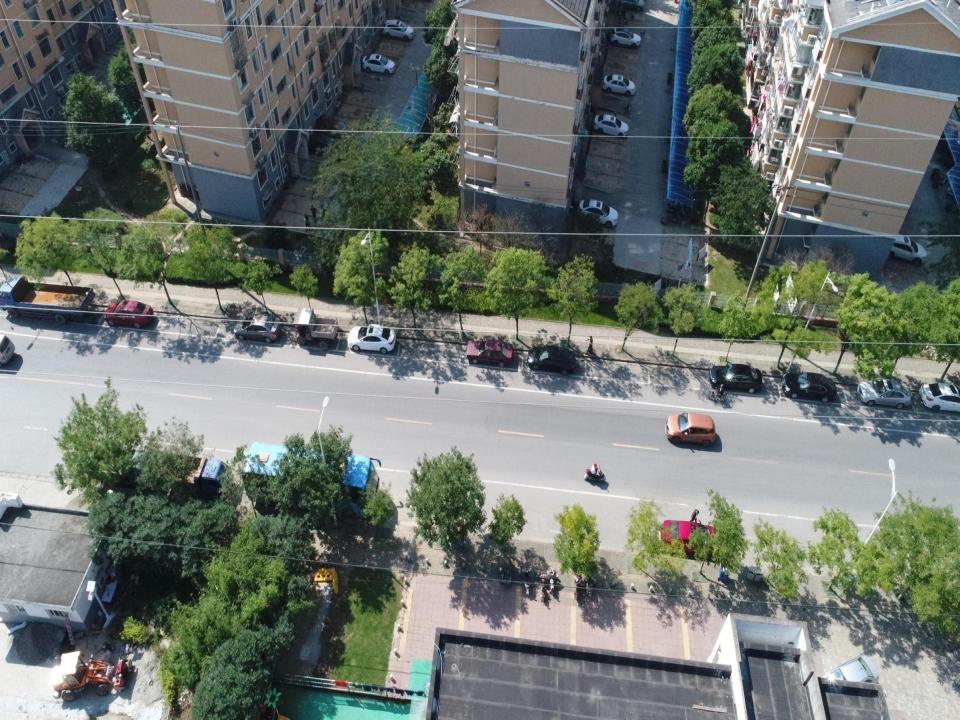car: (659, 520, 719, 561), (822, 654, 880, 690), (782, 370, 838, 405), (665, 412, 716, 448), (232, 311, 284, 345), (106, 296, 154, 332), (526, 343, 576, 377), (709, 364, 763, 395), (858, 378, 912, 409), (466, 335, 513, 369), (348, 324, 396, 355), (578, 197, 619, 228), (920, 379, 960, 410), (892, 233, 928, 264), (594, 111, 630, 139), (384, 17, 418, 42), (604, 71, 636, 97), (361, 52, 394, 76), (607, 25, 641, 48), (329, 118, 358, 143), (314, 133, 338, 155)
truck: (243, 443, 381, 519), (88, 450, 231, 499), (0, 276, 95, 324), (293, 309, 339, 350)
